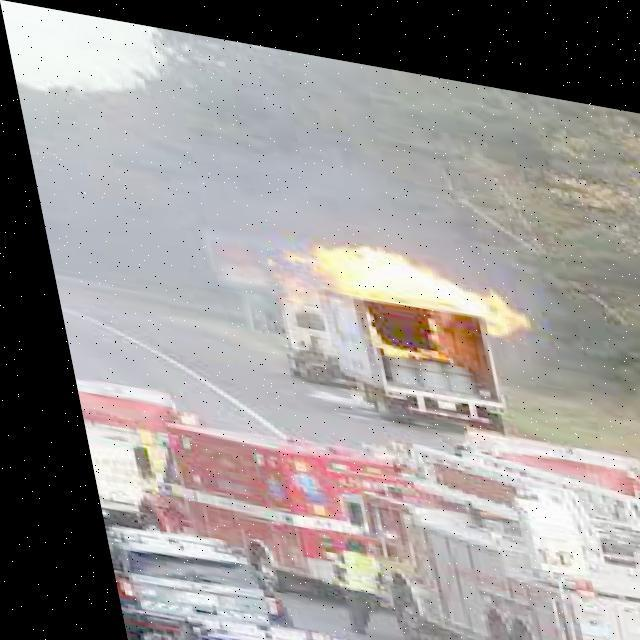Fire: (256, 212, 534, 344)
